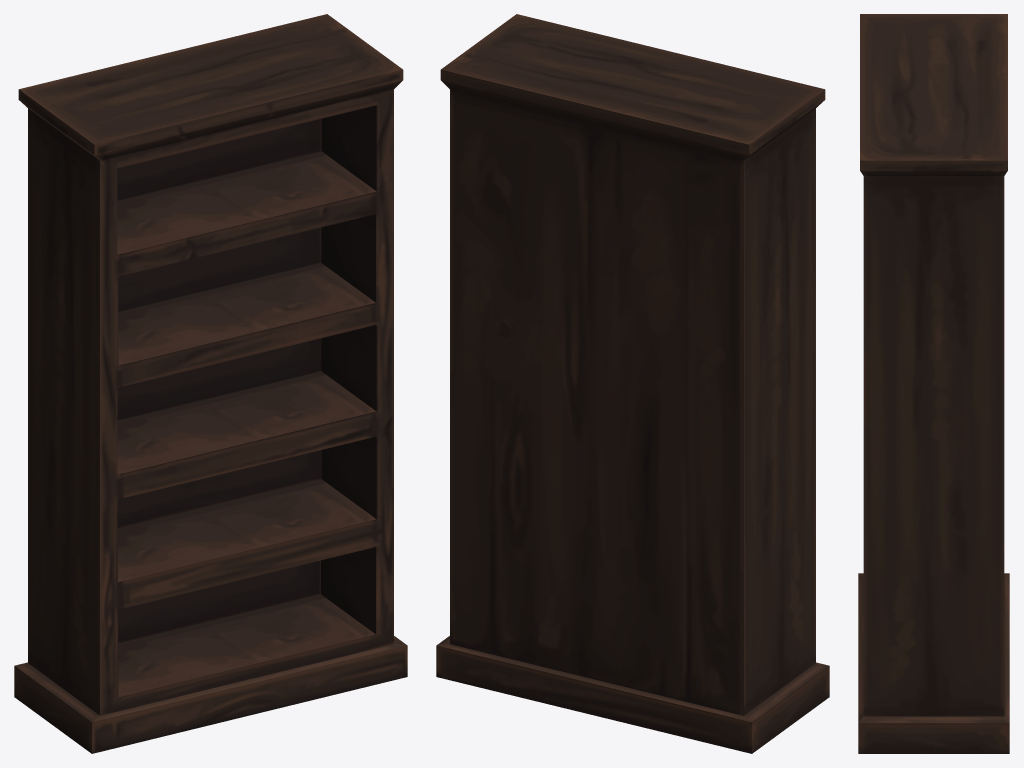
The model's file is Bookcase_01.fbx.
The picture shows the model from 3 angles, left to right: view 1: azimuth 30°, elevation 25°; view 2: azimuth 150°, elevation 25°; view 3: azimuth 270°, elevation 25°; orthographic projection. The views are drawn at different scales.
Parts seen in each view (by area): view 1: pasted__Bookcase; view 2: pasted__Bookcase; view 3: pasted__Bookcase.
Boxes of the visible parts, x1=… form: pasted__Bookcase: x1=14, y1=14, x2=407, y2=753; pasted__Bookcase: x1=436, y1=14, x2=829, y2=753; pasted__Bookcase: x1=858, y1=14, x2=1009, y2=753.
Bounding box in the file's own units: 3.18 × 5.86 × 1.36.
